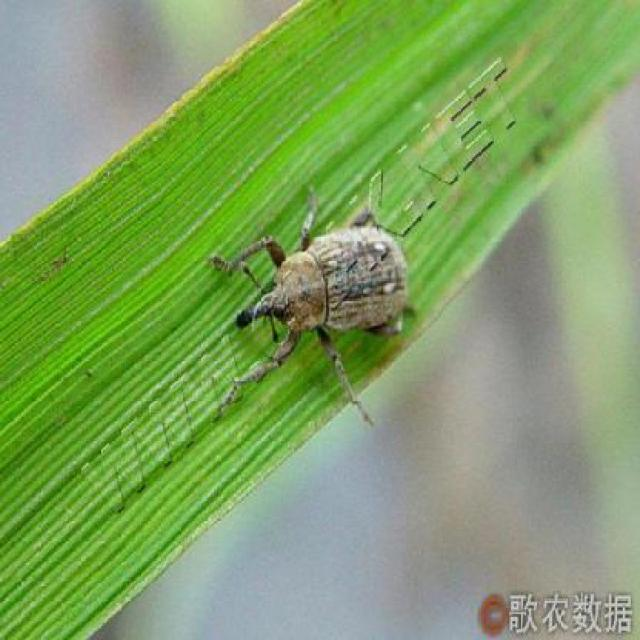rice-bug: (224, 200, 421, 395)
